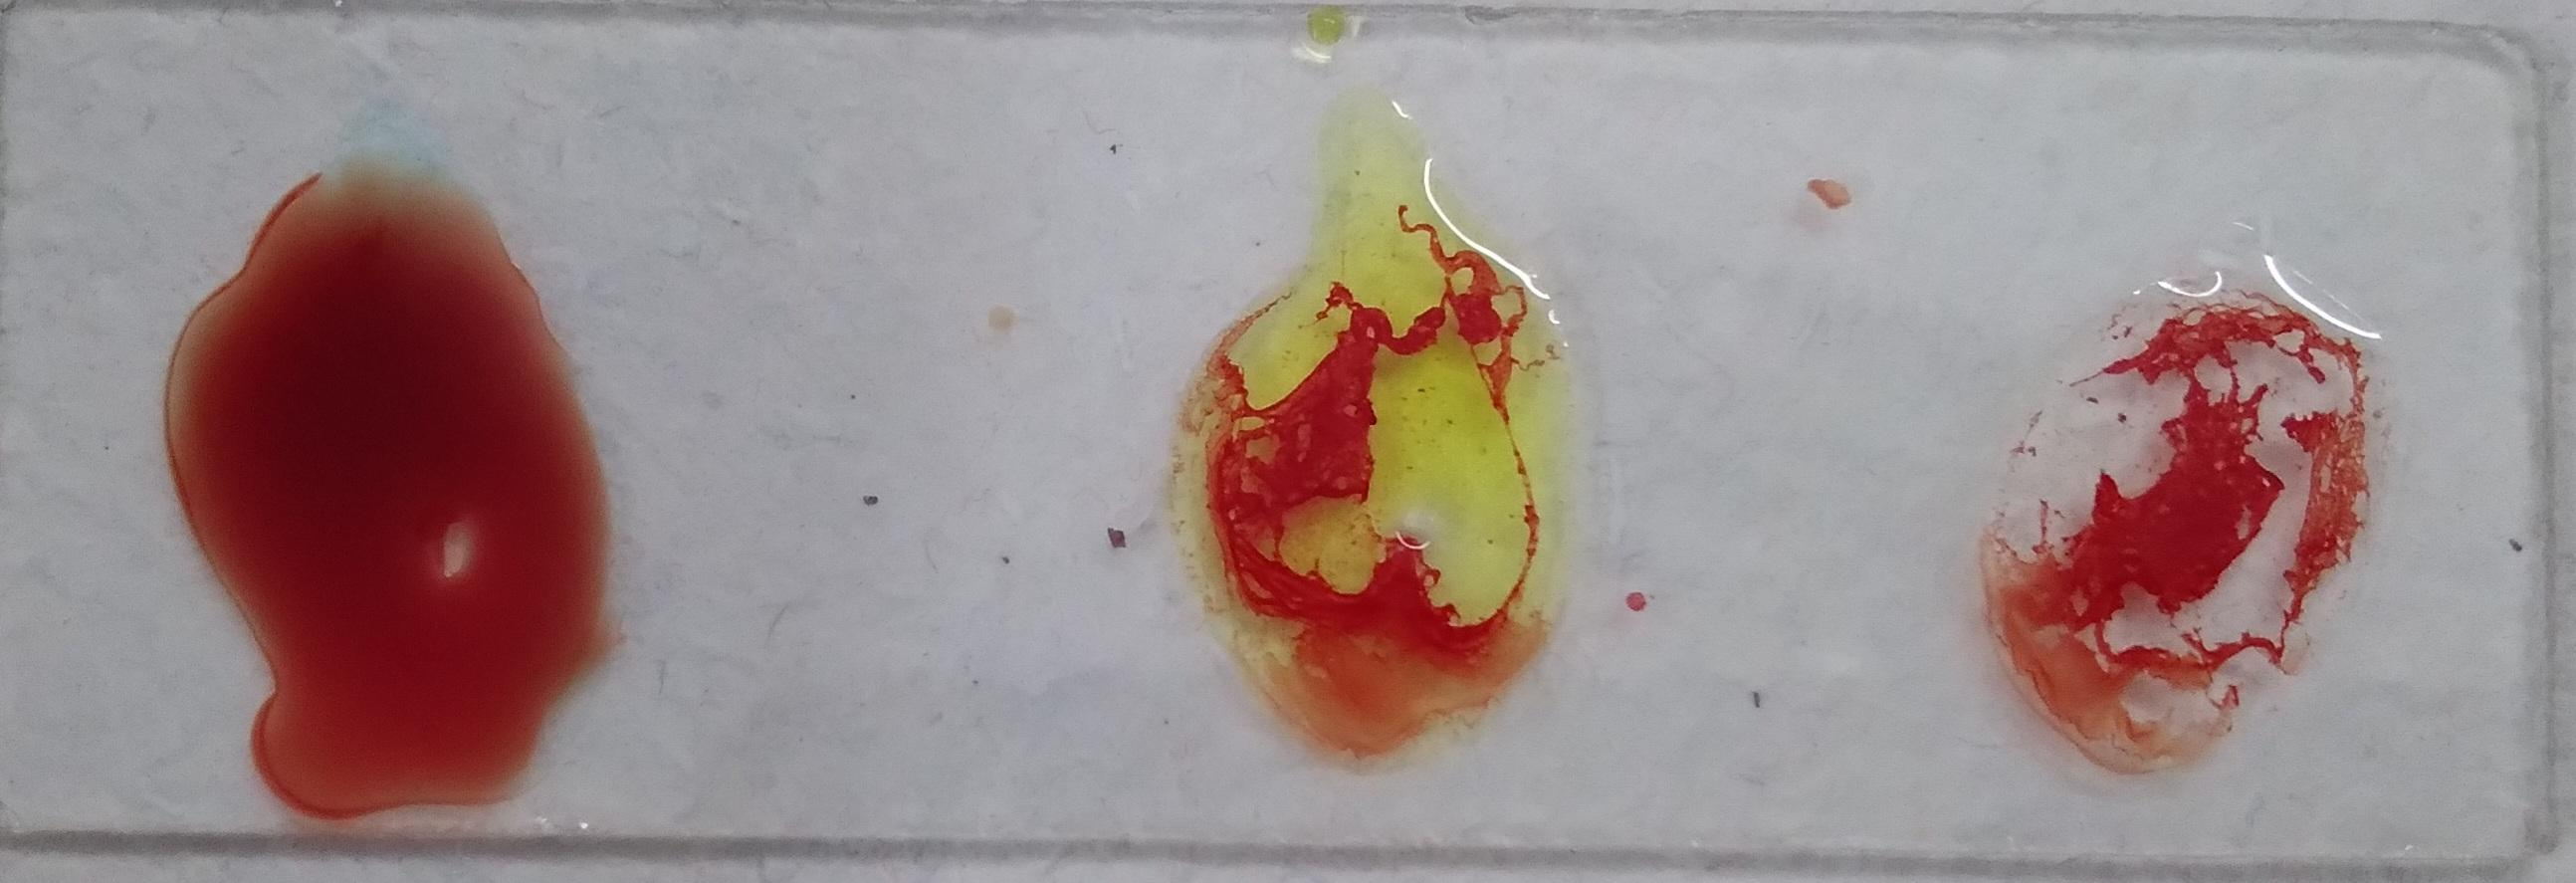B: (1007, 117, 1408, 728)
D: (174, 107, 585, 612)
